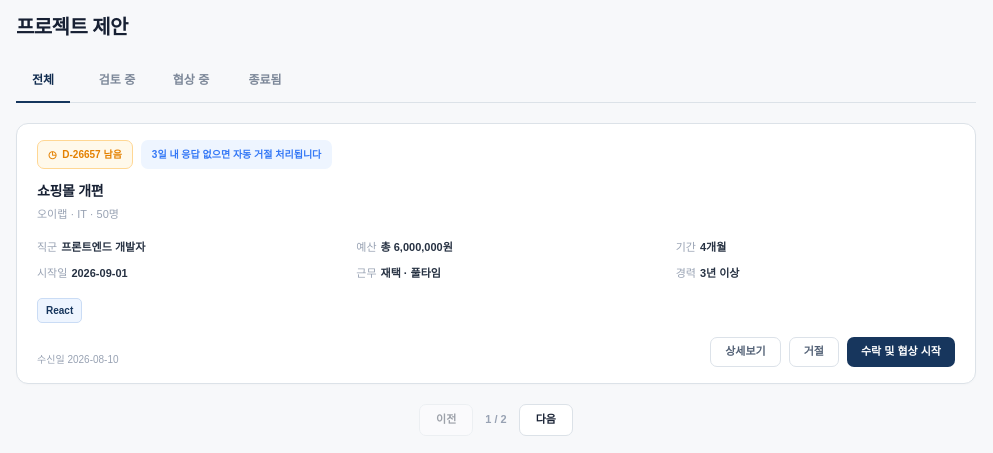
FreelancerProjects › 받은 요청을 10건 단위로 조회하고 다음 페이지를 불러온다
This screenshot has width=993, height=453.
Expected: the heading "쇼핑몰 개편" is shown, x1=37 y1=181 x2=103 y2=202
Click the button "다음" at (546, 420), box x1=519 y1=404 x2=573 y2=436
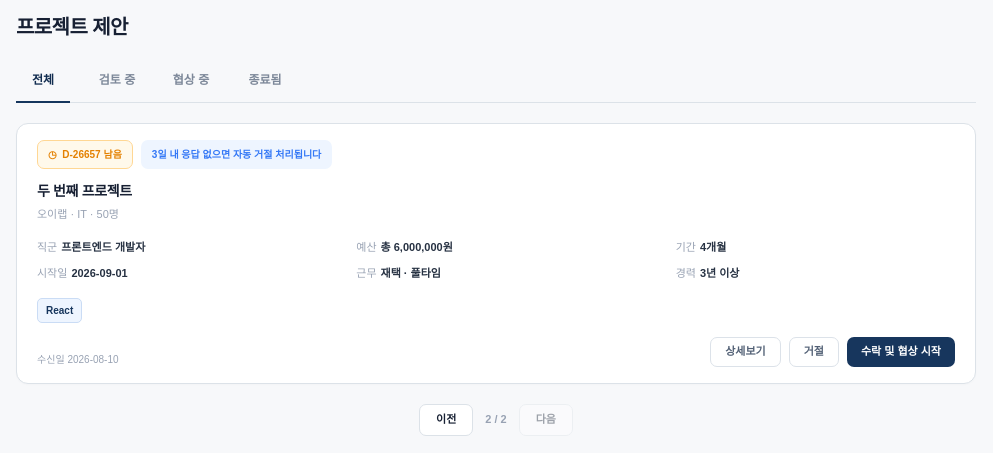
Expected: the heading "두 번째 프로젝트" is shown, x1=37 y1=181 x2=132 y2=202
